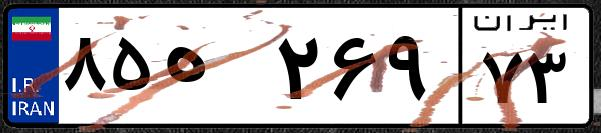2: (270, 28, 330, 110)
3: (525, 38, 570, 115)
5: (110, 28, 158, 98)
6: (330, 28, 385, 110)
7: (475, 38, 525, 113)
8: (57, 26, 110, 100)
9: (385, 28, 445, 110)
ه: (158, 20, 270, 120)
